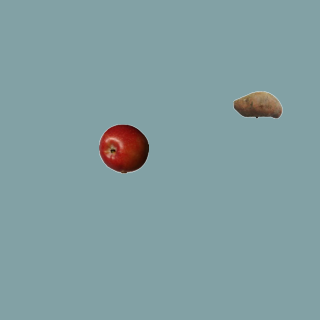Apple Braeburn: (98, 123, 148, 173)
Potato Sweet: (232, 79, 282, 129)
